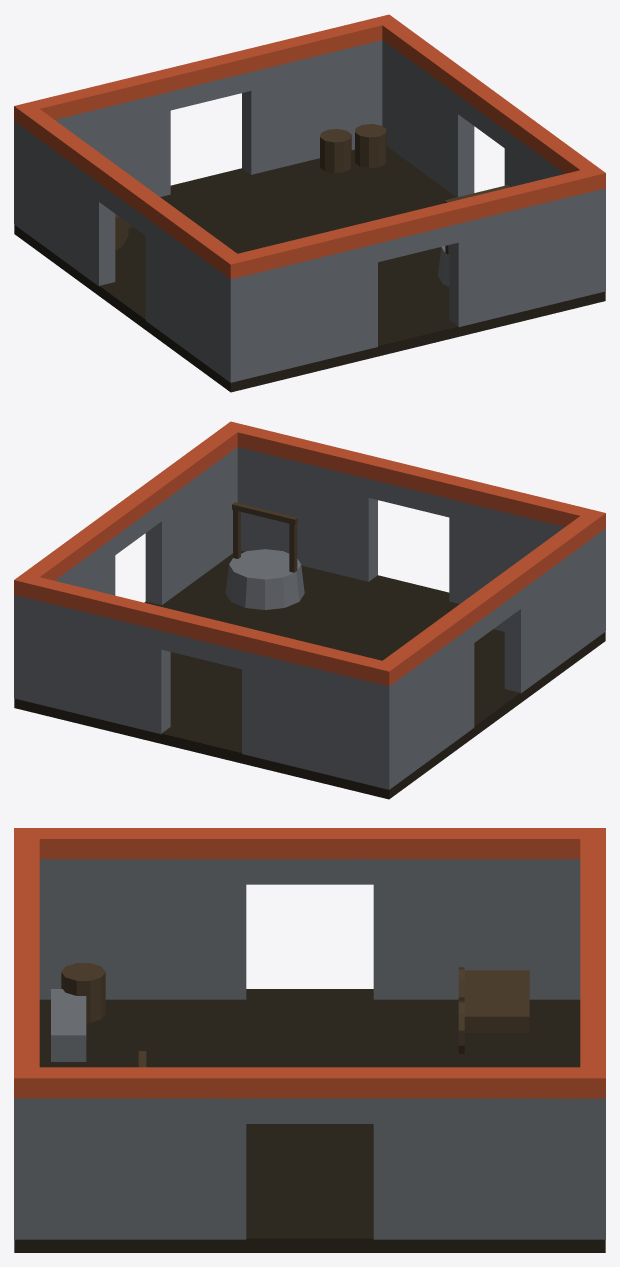
File: WellCourtyard.fbx
3 views of the same model, one above another, from view 1: azimuth 30°, elevation 25°; view 2: azimuth 150°, elevation 25°; view 3: azimuth 270°, elevation 25° (orthographic). The views are drawn at different scales.
Parts seen in each view (by area): view 1: WellCourtyard; view 2: WellCourtyard; view 3: WellCourtyard.
Boxes of the visible parts, box(x1,y1,x2,y2) form: WellCourtyard: box(14, 14, 605, 392); WellCourtyard: box(14, 421, 605, 799); WellCourtyard: box(14, 828, 605, 1252).
Bounding box in the file's own units: 1202 × 392 × 1202.
5 materials, 5 textured.
